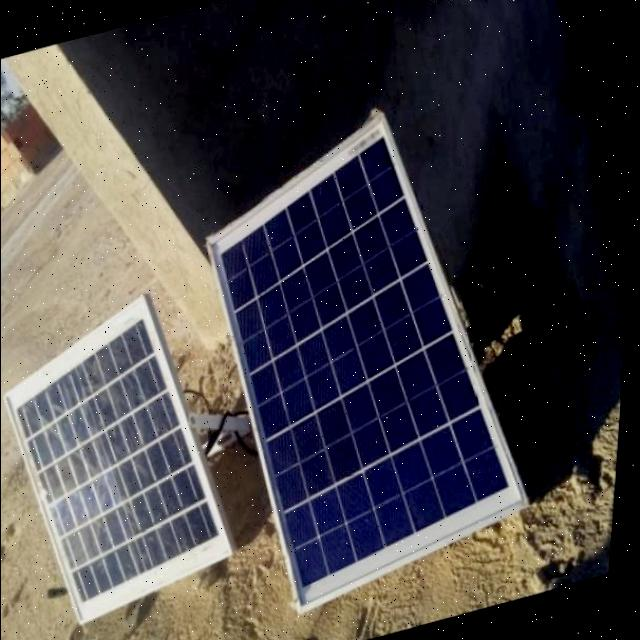Normal Solar Panel: (171, 94, 566, 626)
